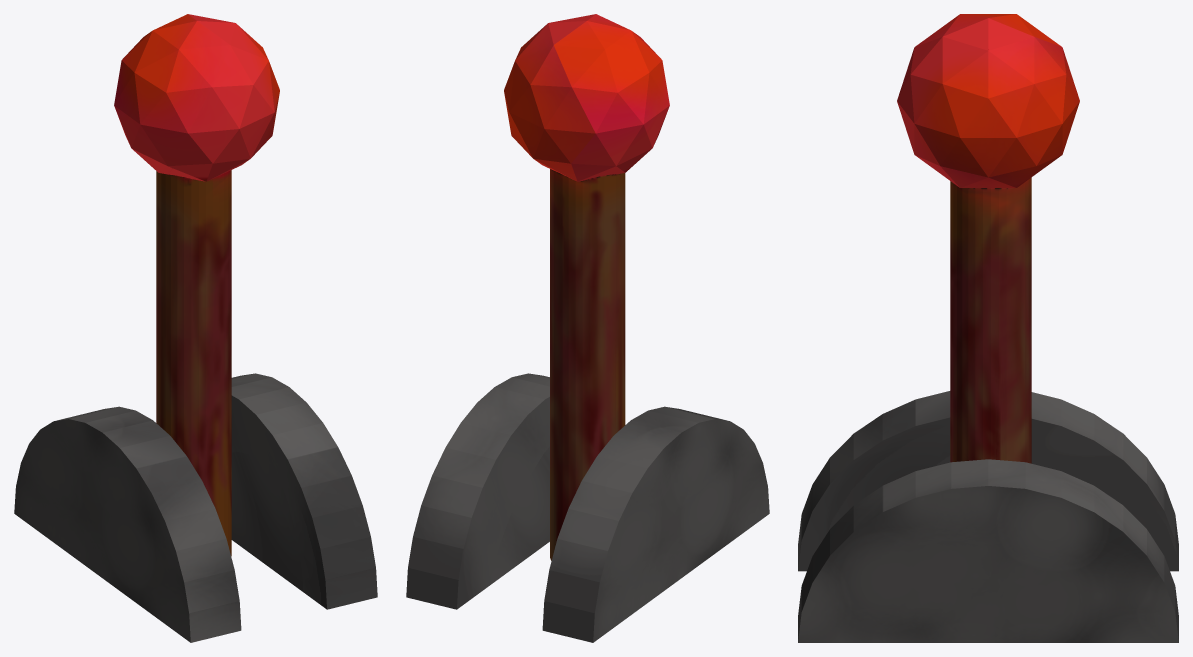
The model's file is Switch.glb.
3 views of the same model, side by side, from view 1: azimuth 30°, elevation 25°; view 2: azimuth 150°, elevation 25°; view 3: azimuth 270°, elevation 25° (orthographic). The views are drawn at different scales.
Parts seen in each view (by area): view 1: Base, Lever; view 2: Base, Lever; view 3: Base, Lever.
Part boxes in pixels (x1,y1,x2,y2): Base: [14, 373, 377, 642]; Lever: [114, 14, 279, 556]; Base: [406, 373, 769, 642]; Lever: [504, 14, 669, 560]; Base: [798, 391, 1178, 642]; Lever: [897, 14, 1079, 463].
Size of the model in its own units: 0.9654 by 2.64 by 1.58.
1 material, 1 textured.
